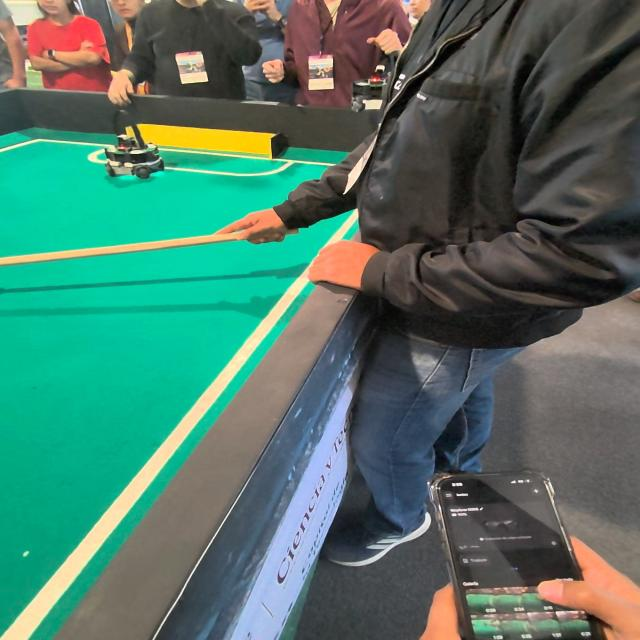Robot: (106, 120, 170, 184)
